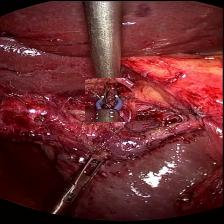Bipolar: (86, 77, 136, 121)
Grasper: (48, 151, 112, 210)
